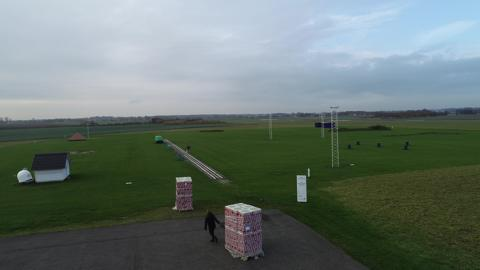RockwoolPallet: (176, 176, 194, 214)
